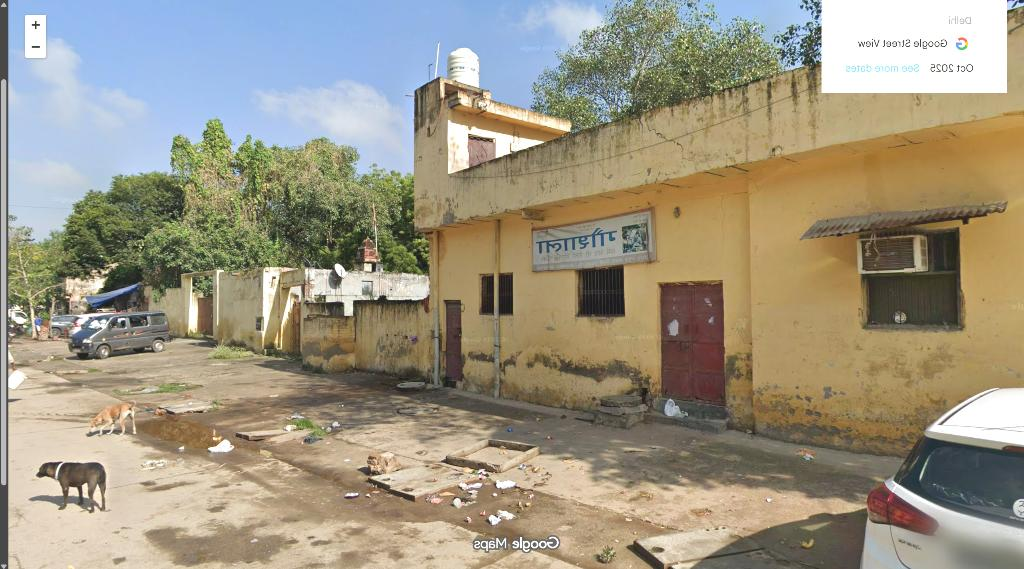garbage: (449, 480, 484, 511), (661, 394, 692, 421), (483, 508, 518, 531), (205, 437, 239, 459), (492, 478, 517, 492)
